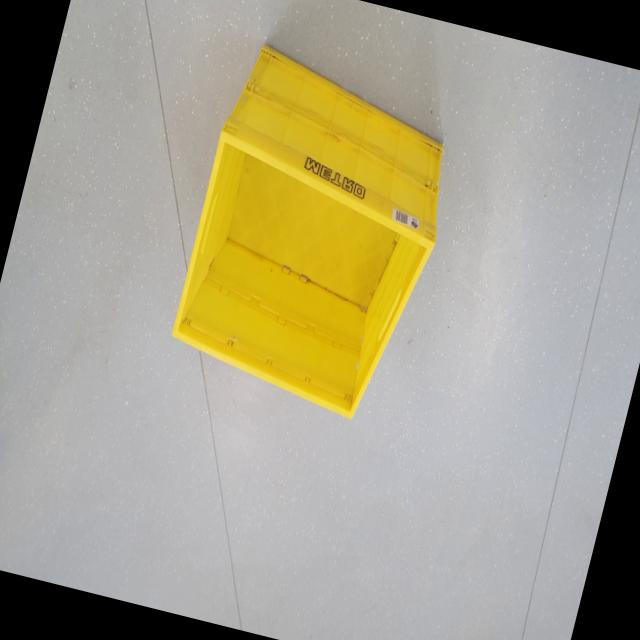box: (148, 34, 473, 436)
